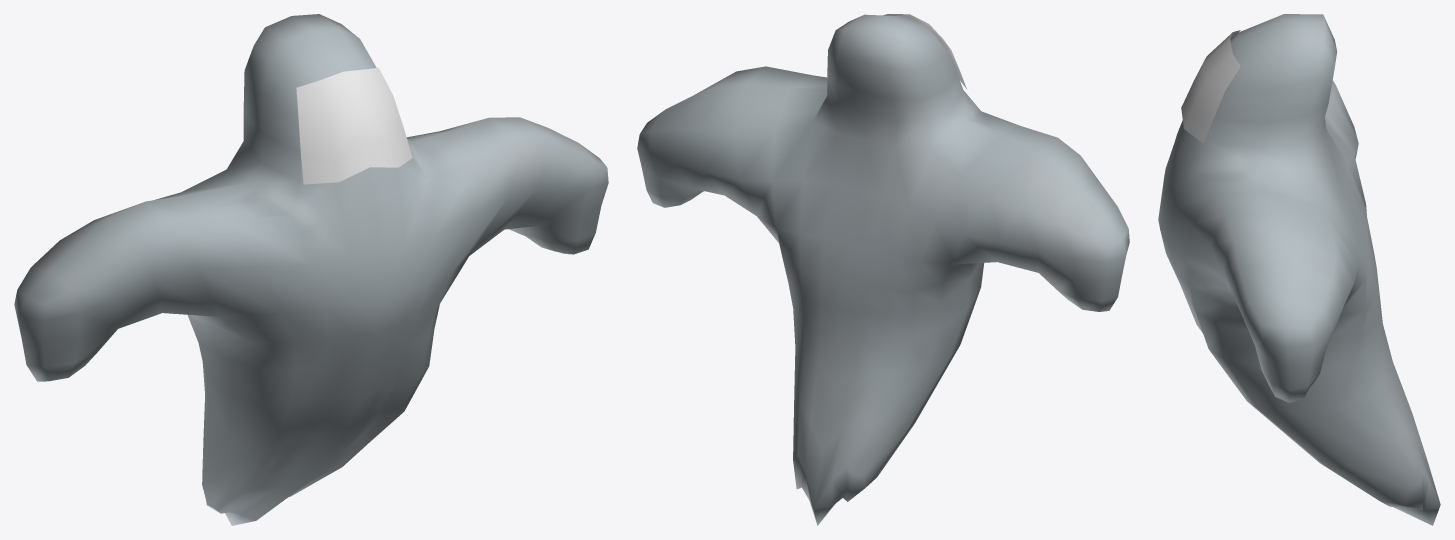
The model's file is preymale.fbx.
3 renders of one model, left to right at view 1: azimuth 30°, elevation 25°; view 2: azimuth 150°, elevation 25°; view 3: azimuth 270°, elevation 25°, orthographic. The views are drawn at different scales.
Parts seen in each view (by area): view 1: Cube; view 2: Cube; view 3: Cube.
Boxes of the visible parts, left/top/right/bottom form: Cube: left=14, top=14, right=608, bottom=525; Cube: left=637, top=14, right=1129, bottom=525; Cube: left=1158, top=14, right=1440, bottom=525.
Bounding box in the file's own units: 151 × 137 × 69.32.
